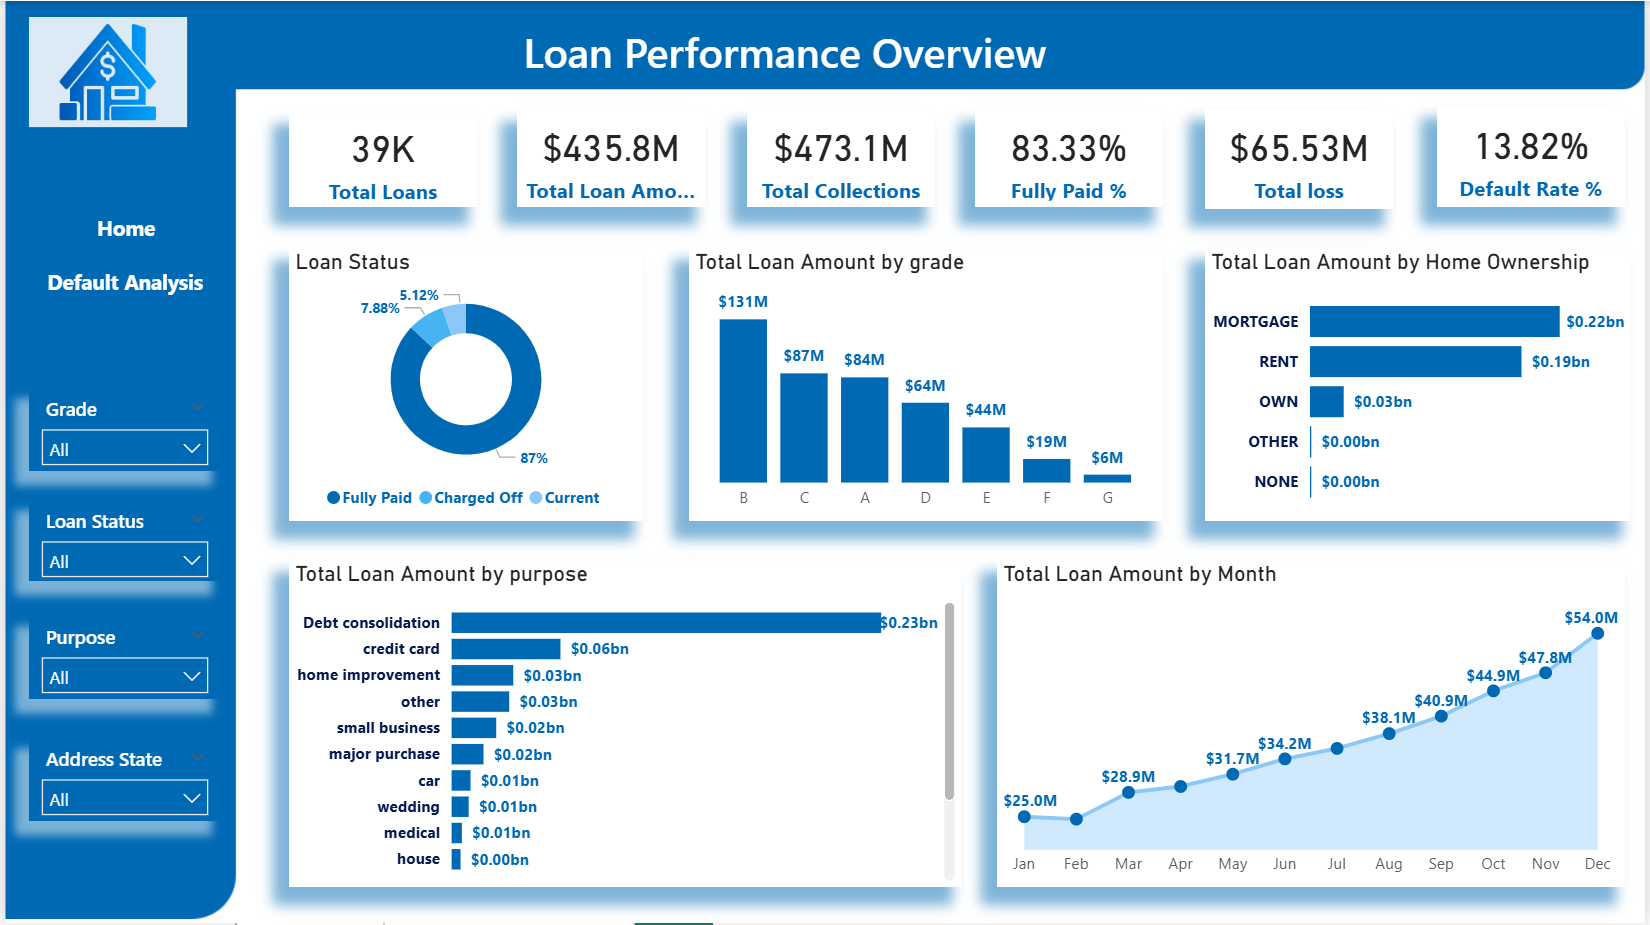

The page's visual inventory and layout, read from the dashboard file:
{"tool":"powerbi","page":{"name":"Home","canvas":[1280,720],"ordinal":0},"visuals":[{"type":"card","fields":{"Values":["loan_data.Total Loans"]},"box":[221.8,87.5,146.8,73.4],"z":0},{"type":"card","fields":{"Values":["loan_data.Total Loan Amount"]},"box":[399.8,85.9,146.8,75],"z":1000},{"type":"card","fields":{"Values":["loan_data.Total Received Amt"]},"box":[579.4,85.9,146.8,75],"z":2000},{"type":"card","fields":{"Values":["loan_data.Fully Paid %"]},"box":[757.5,85.9,146.8,75],"z":3000},{"type":"donutChart","title":"Loan Status","fields":{"Category":["loan_data.loan_status"],"Y":["Sum(loan_data.total_payment)"]},"box":[221.8,193.7,276.4,212.4],"z":4000},{"type":"clusteredColumnChart","fields":{"Category":["loan_data.grade"],"Y":["loan_data.Total Loan Amount"]},"box":[534.1,193.7,370.2,212.4],"z":5000},{"type":"clusteredBarChart","fields":{"Category":["loan_data.purpose"],"Y":["loan_data.Total Loan Amount"]},"box":[221.8,437.3,524.8,254.6],"z":6000},{"type":"slicer","fields":{"Values":["loan_data.grade"]},"box":[19.4,303.2,149.9,64],"z":7000},{"type":"slicer","fields":{"Values":["loan_data.loan_status"]},"box":[19.4,390.7,149.9,62.5],"z":8000},{"type":"slicer","fields":{"Values":["loan_data.purpose"]},"box":[19.4,481.3,149.9,64],"z":9000},{"type":"slicer","fields":{"Values":["loan_data.address_state"]},"box":[19.4,577,149.9,64],"z":10000},{"type":"card","fields":{"Values":["loan_data.Total loss"]},"box":[937.1,84.3,146.8,78.1],"z":11000},{"type":"card","fields":{"Values":["loan_data.Default Rate %"]},"box":[1118.3,82.8,146.8,78.1],"z":12000},{"type":"textbox","box":[399.8,12.5,584.1,59.3],"z":13000},{"type":"stackedAreaChart","fields":{"Y":["loan_data.Total Loan Amount"],"Category":["Date Table.Month"]},"box":[774.7,437.3,490.4,254.6],"z":14000},{"type":"clusteredBarChart","title":"Total Loan Amount by Home Ownership","fields":{"Category":["loan_data.home_ownership"],"Y":["loan_data.Total Loan Amount"]},"box":[937.1,193.7,332.7,212.4],"z":15000},{"type":"image","box":[18.7,12.5,123.4,85.9],"z":16000},{"type":"shape","box":[23.4,199.9,140.6,40.6],"z":17000},{"type":"textbox","box":[18.7,203,149.9,37.5],"z":18000},{"type":"textbox","box":[18.7,160.9,151.5,39],"z":18001},{"type":"shape","box":[25,157.7,140.6,40.6],"z":18002},{"type":"shape","box":[25,203,140.6,40.6],"z":18003}]}

Visuals, with their boxes in screenshot pixels (x1, y1, x2, y2), scaled from the page's 1280x720 canvas onto the 1650x925 screenshot:
card - loan_data.Total Loans: <box>286,112,475,207</box>
card - loan_data.Total Loan Amount: <box>515,110,705,207</box>
card - loan_data.Total Received Amt: <box>747,110,936,207</box>
card - loan_data.Fully Paid %: <box>976,110,1166,207</box>
"Loan Status" donutChart: <box>286,249,642,522</box>
clusteredColumnChart - loan_data.grade x loan_data.Total Loan Amount: <box>688,249,1166,522</box>
clusteredBarChart - loan_data.purpose x loan_data.Total Loan Amount: <box>286,562,962,889</box>
slicer - loan_data.grade: <box>25,390,218,472</box>
slicer - loan_data.loan_status: <box>25,502,218,582</box>
slicer - loan_data.purpose: <box>25,618,218,701</box>
slicer - loan_data.address_state: <box>25,741,218,824</box>
card - loan_data.Total loss: <box>1208,108,1397,209</box>
card - loan_data.Default Rate %: <box>1442,106,1631,207</box>
textbox: <box>515,16,1268,92</box>
stackedAreaChart - loan_data.Total Loan Amount x Date Table.Month: <box>999,562,1631,889</box>
"Total Loan Amount by Home Ownership" clusteredBarChart: <box>1208,249,1637,522</box>
image: <box>24,16,183,126</box>
shape: <box>30,257,211,309</box>
textbox: <box>24,261,217,309</box>
textbox: <box>24,207,219,257</box>
shape: <box>32,203,213,255</box>
shape: <box>32,261,213,313</box>
